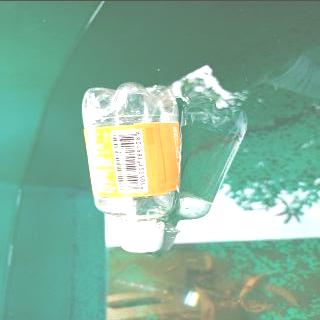bottle: (82, 81, 185, 252)
